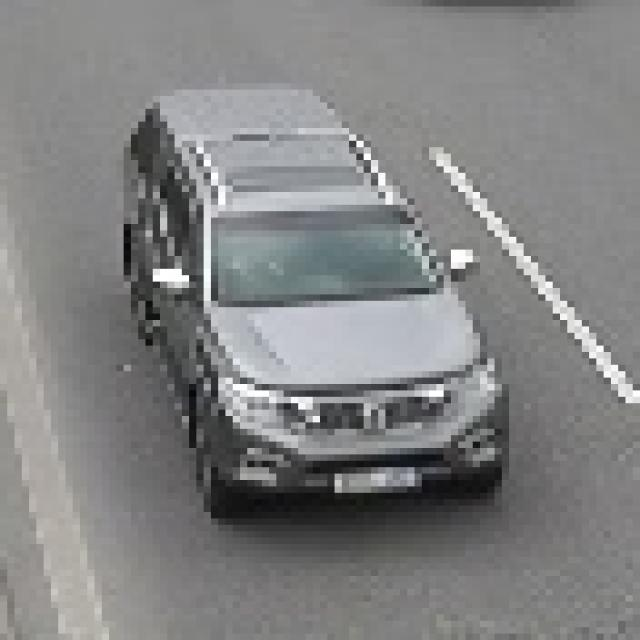SUV: (124, 96, 517, 508)
